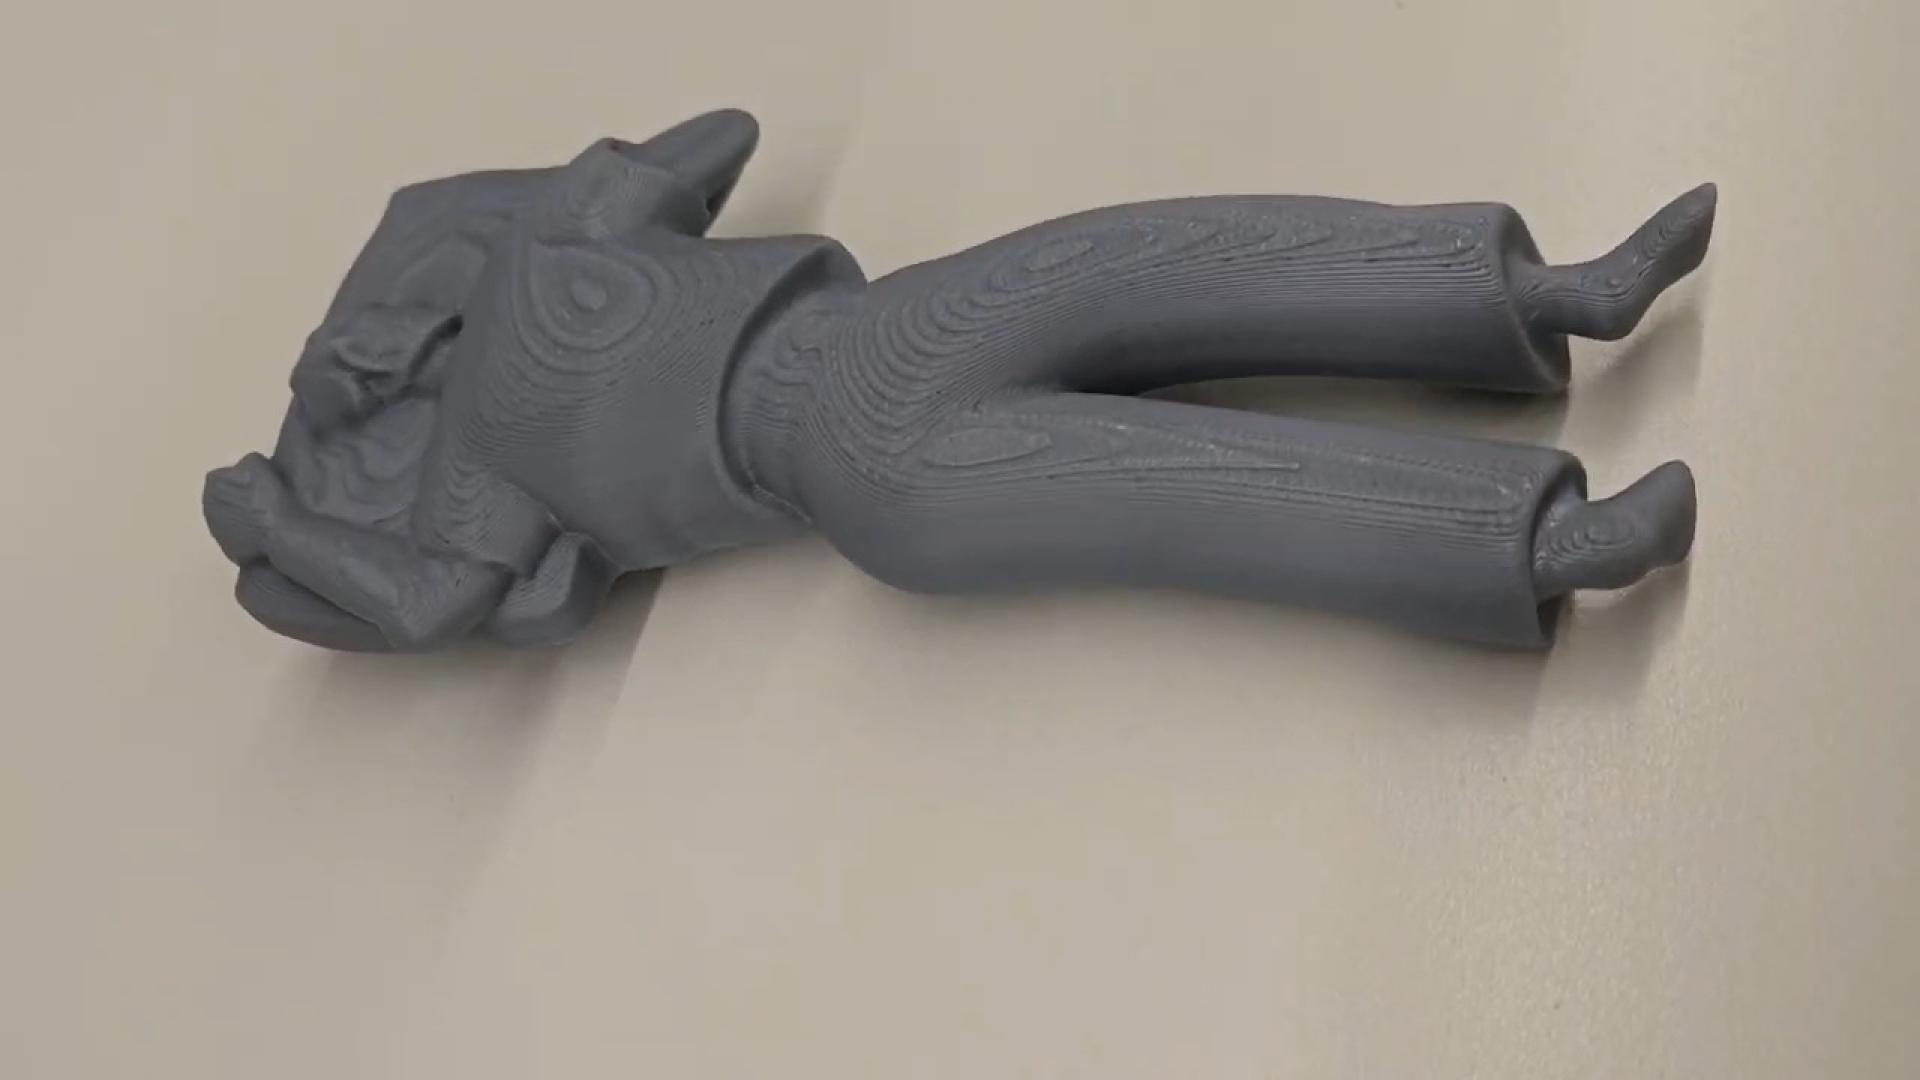Bad-style: (198, 95, 1722, 702)
